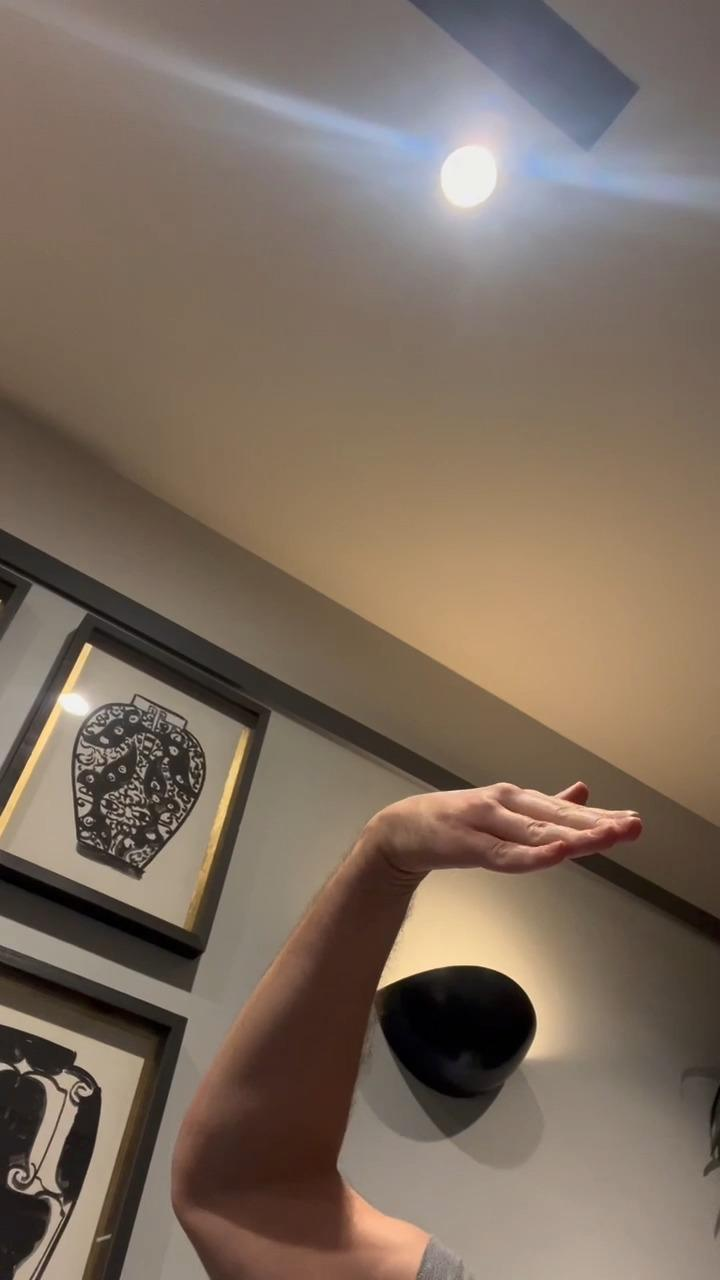Paper: (370, 777, 642, 873)
